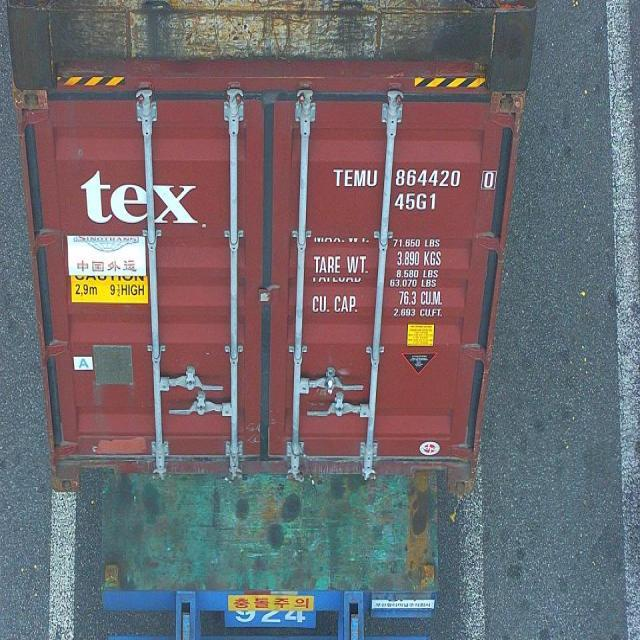ISO: (396, 193, 436, 212)
container_number: (333, 164, 498, 186)
